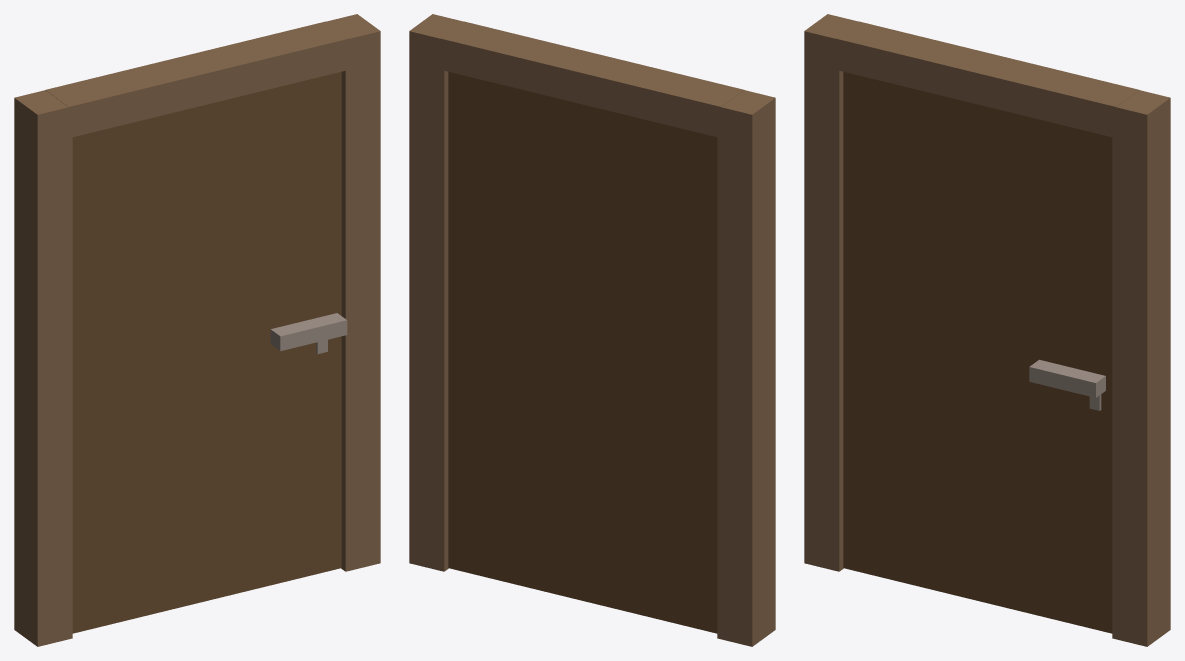
Rendered from kapı 1.1.1.fbx.
3 views of the same model, side by side, from view 1: azimuth 30°, elevation 25°; view 2: azimuth 150°, elevation 25°; view 3: azimuth 330°, elevation 25° (orthographic).
Visible parts, largest first — view 1: pCube19; view 2: pCube19; view 3: pCube19.
Part boxes in pixels (x1,y1,x2,y2): pCube19: (14, 14, 380, 646); pCube19: (409, 14, 775, 646); pCube19: (804, 14, 1170, 646).
Bounding box in the file's own units: 909 × 1348 × 148.
